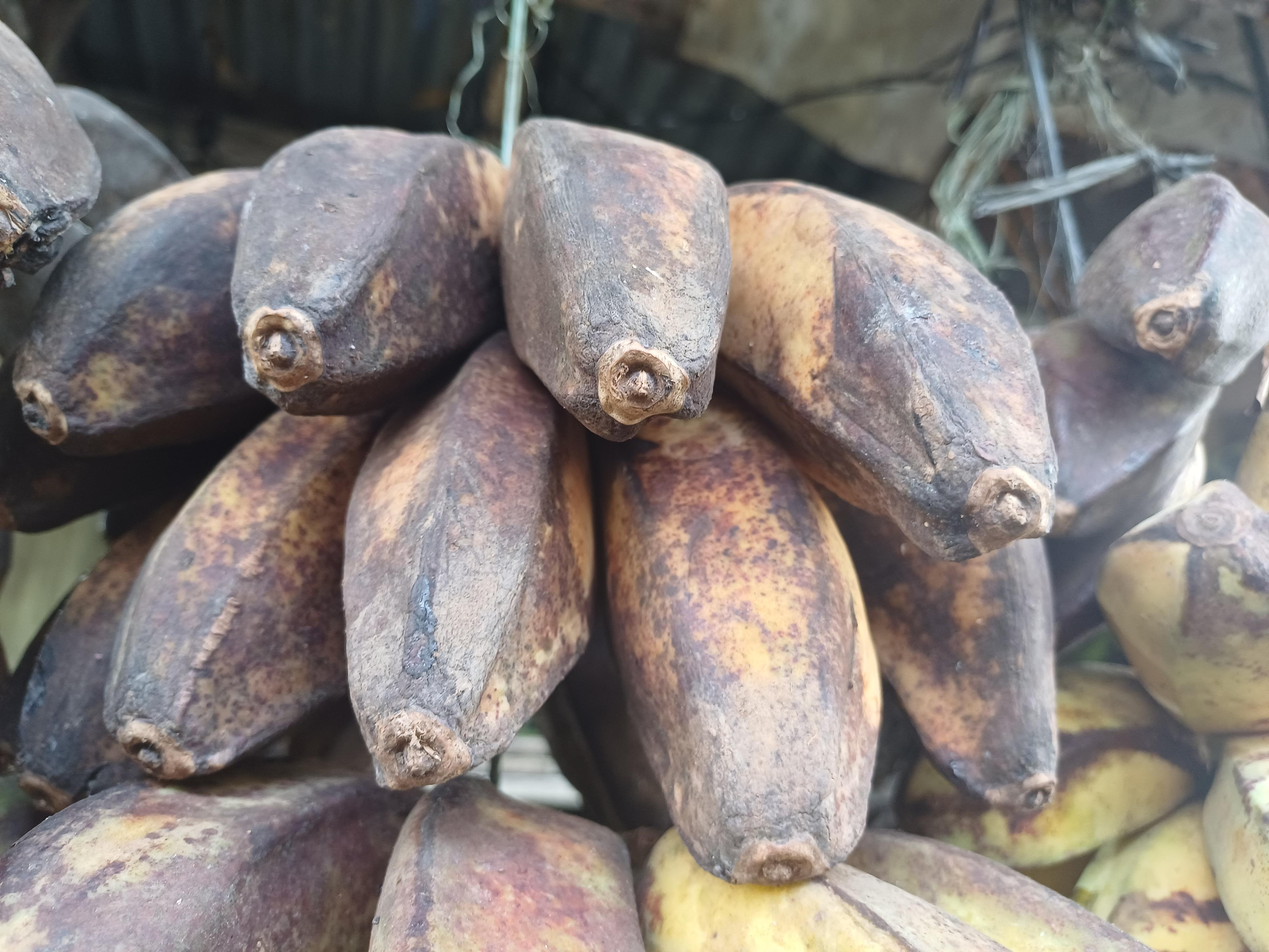overripe: (0, 118, 1058, 884), (1033, 173, 1269, 645)
underripe: (0, 761, 1145, 952), (902, 481, 1269, 952)
